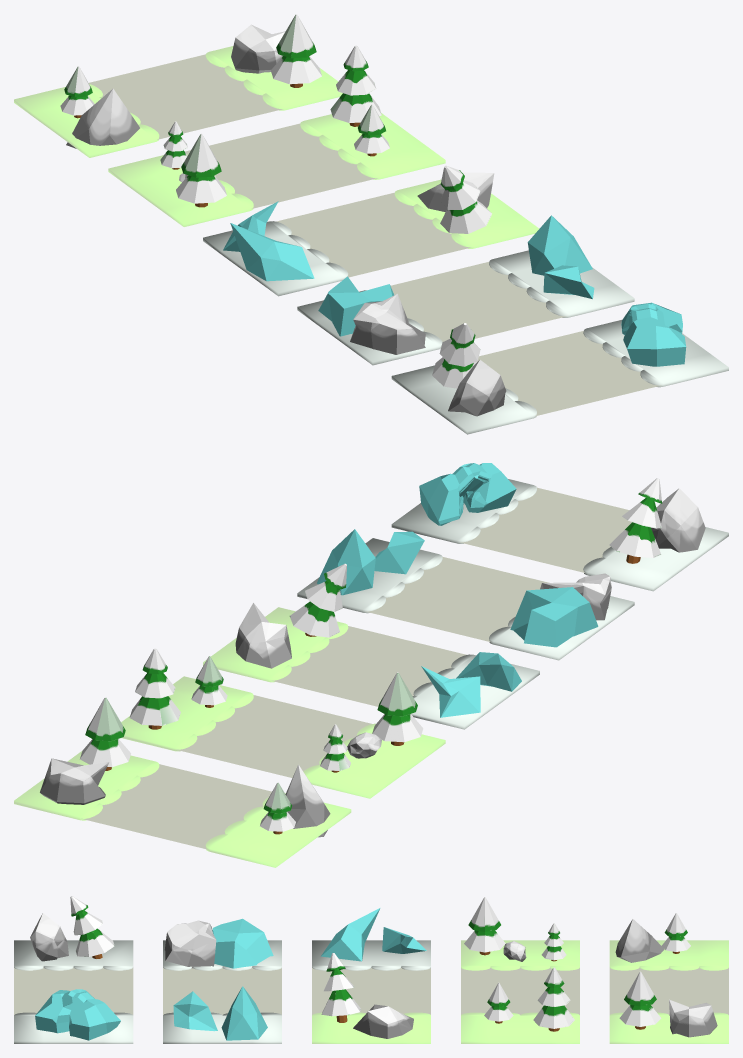
Rendered from SnowPath.glb.
3 renders of one model, top to bottom at view 1: azimuth 30°, elevation 25°; view 2: azimuth 150°, elevation 25°; view 3: azimuth 270°, elevation 25°, orthographic. The views are drawn at different scales.
Parts seen in each view (by area): view 1: Mod2, Mod5, Mod1, Mod4, Mod3; view 2: Mod2, Mod5, Mod1, Mod3, Mod4; view 3: Mod5, Mod4, Mod2, Mod3, Mod1.
Boxes of the visible parts, box(x1,y1,x2,y2) form: Mod2: box(108, 45, 445, 226); Mod5: box(391, 302, 728, 434); Mod1: box(14, 14, 342, 157); Mod4: box(297, 215, 634, 365); Mod3: box(203, 165, 539, 296); Mod2: box(121, 648, 445, 798); Mod5: box(391, 463, 728, 591); Mod1: box(14, 697, 351, 867); Mod3: box(203, 563, 539, 729); Mod4: box(297, 529, 634, 660); Mod5: box(14, 896, 133, 1043); Mod4: box(163, 918, 281, 1043); Mod2: box(461, 897, 579, 1043); Mod3: box(312, 908, 430, 1043); Mod1: box(609, 913, 728, 1043).
Size of the model in its own units: 8.15 by 2.55 by 24.
Materials: 13 (7 with a texture image).
